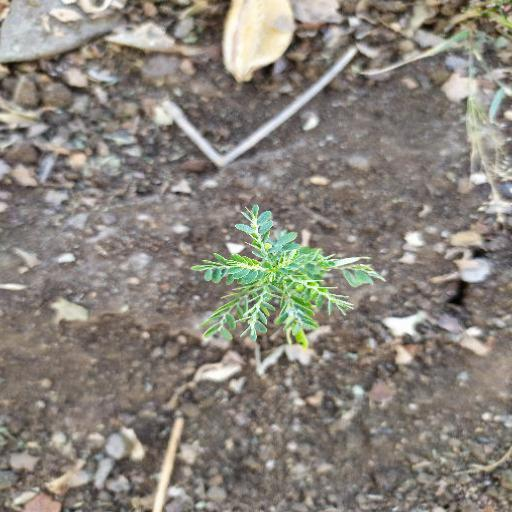weed: (196, 202, 385, 371)
